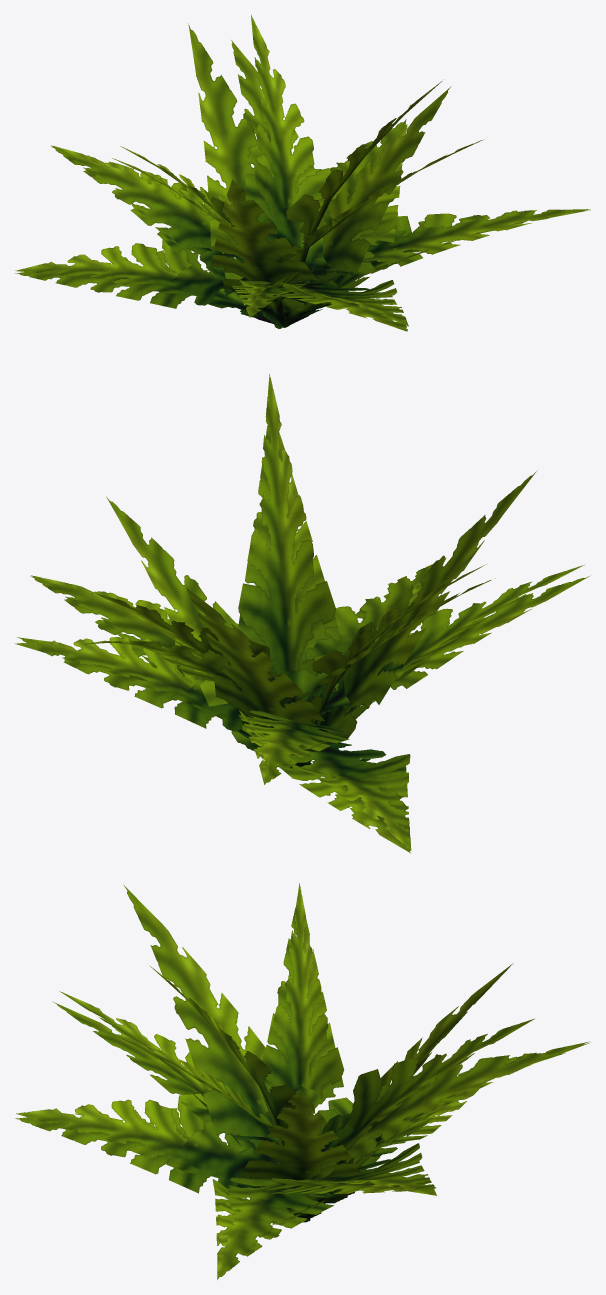
File: plant1.obj
3 renders of one model, top to bottom at view 1: azimuth 30°, elevation 25°; view 2: azimuth 150°, elevation 25°; view 3: azimuth 270°, elevation 25°, orthographic. The views are drawn at different scales.
Visible parts, largest first — view 1: ColobotMesh_1.012_ColobotMesh_.012, ColobotMesh_1.010_ColobotMesh_.010, ColobotMesh_1.011_ColobotMesh_.011, ColobotMesh_1.009_ColobotMesh_.009, ColobotMesh_1_ColobotMesh_, ColobotMesh_1.003_ColobotMesh_.003, ColobotMesh_1.001_ColobotMesh_.001, ColobotMesh_1.018_ColobotMesh_.018, ColobotMesh_1.014_ColobotMesh_.014, ColobotMesh_1.013_ColobotMesh_.013, ColobotMesh_1.005_ColobotMesh_.005, ColobotMesh_1.006_ColobotMesh_.006 (+9 smaller); view 2: ColobotMesh_1.013_ColobotMesh_.013, ColobotMesh_1.009_ColobotMesh_.009, ColobotMesh_1.011_ColobotMesh_.011, ColobotMesh_1.010_ColobotMesh_.010, ColobotMesh_1.004_ColobotMesh_.004, ColobotMesh_1.014_ColobotMesh_.014, ColobotMesh_1.019_ColobotMesh_.019, ColobotMesh_1.003_ColobotMesh_.003, ColobotMesh_1.020_ColobotMesh_.020, ColobotMesh_1.002_ColobotMesh_.002, ColobotMesh_1_ColobotMesh_, ColobotMesh_1.015_ColobotMesh_.015 (+8 smaller); view 3: ColobotMesh_1.009_ColobotMesh_.009, ColobotMesh_1.007_ColobotMesh_.007, ColobotMesh_1.005_ColobotMesh_.005, ColobotMesh_1.010_ColobotMesh_.010, ColobotMesh_1.016_ColobotMesh_.016, ColobotMesh_1.018_ColobotMesh_.018, ColobotMesh_1.001_ColobotMesh_.001, ColobotMesh_1.012_ColobotMesh_.012, ColobotMesh_1.017_ColobotMesh_.017, ColobotMesh_1.020_ColobotMesh_.020, ColobotMesh_1.004_ColobotMesh_.004, ColobotMesh_1.013_ColobotMesh_.013 (+9 smaller).
Part boxes in pixels (<box>): ColobotMesh_1.012_ColobotMesh_.012: <box>251,15,340,316</box>; ColobotMesh_1.010_ColobotMesh_.010: <box>294,86,451,305</box>; ColobotMesh_1.011_ColobotMesh_.011: <box>188,23,281,328</box>; ColobotMesh_1.009_ColobotMesh_.009: <box>210,179,317,316</box>; ColobotMesh_1_ColobotMesh_: <box>51,146,243,264</box>; ColobotMesh_1.003_ColobotMesh_.003: <box>15,240,283,327</box>; ColobotMesh_1.001_ColobotMesh_.001: <box>312,209,590,276</box>; ColobotMesh_1.018_ColobotMesh_.018: <box>231,40,330,283</box>; ColobotMesh_1.014_ColobotMesh_.014: <box>15,250,248,308</box>; ColobotMesh_1.013_ColobotMesh_.013: <box>286,81,441,298</box>; ColobotMesh_1.005_ColobotMesh_.005: <box>280,280,408,327</box>; ColobotMesh_1.006_ColobotMesh_.006: <box>315,209,590,310</box>; ColobotMesh_1.013_ColobotMesh_.013: <box>238,374,336,702</box>; ColobotMesh_1.009_ColobotMesh_.009: <box>308,471,536,764</box>; ColobotMesh_1.011_ColobotMesh_.011: <box>186,587,327,768</box>; ColobotMesh_1.010_ColobotMesh_.010: <box>106,496,280,768</box>; ColobotMesh_1.004_ColobotMesh_.004: <box>15,636,251,737</box>; ColobotMesh_1.014_ColobotMesh_.014: <box>279,742,410,853</box>; ColobotMesh_1.019_ColobotMesh_.019: <box>238,425,337,703</box>; ColobotMesh_1.003_ColobotMesh_.003: <box>293,754,411,850</box>; ColobotMesh_1.020_ColobotMesh_.020: <box>320,576,589,714</box>; ColobotMesh_1.002_ColobotMesh_.002: <box>344,565,584,719</box>; ColobotMesh_1_ColobotMesh_: <box>239,710,349,784</box>; ColobotMesh_1.015_ColobotMesh_.015: <box>17,637,256,731</box>; ColobotMesh_1.009_ColobotMesh_.009: <box>123,884,276,1159</box>; ColobotMesh_1.007_ColobotMesh_.007: <box>262,883,343,1098</box>; ColobotMesh_1.005_ColobotMesh_.005: <box>16,1093,253,1187</box>; ColobotMesh_1.010_ColobotMesh_.010: <box>239,1088,361,1222</box>; ColobotMesh_1.016_ColobotMesh_.016: <box>15,1108,280,1193</box>; ColobotMesh_1.018_ColobotMesh_.018: <box>307,1052,565,1180</box>; ColobotMesh_1.001_ColobotMesh_.001: <box>214,1176,334,1279</box>; ColobotMesh_1.012_ColobotMesh_.012: <box>336,1018,534,1164</box>; ColobotMesh_1.017_ColobotMesh_.017: <box>257,908,343,1135</box>; ColobotMesh_1.020_ColobotMesh_.020: <box>52,1001,278,1144</box>; ColobotMesh_1.004_ColobotMesh_.004: <box>271,1143,436,1215</box>; ColobotMesh_1.013_ColobotMesh_.013: <box>149,965,295,1146</box>.
Size of the model in its own units: 28.49 by 16.57 by 28.12.
